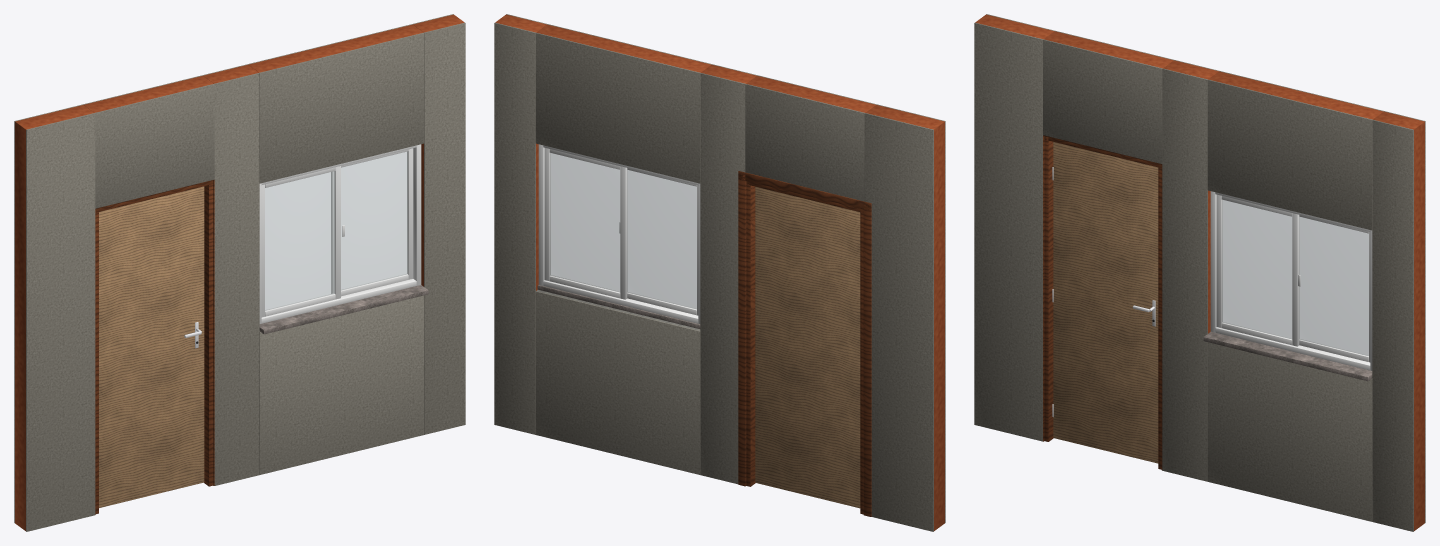
The model's file is KIT-ESQ-01.glb.
The picture shows the model from 3 angles, left to right: view 1: azimuth 30°, elevation 25°; view 2: azimuth 150°, elevation 25°; view 3: azimuth 330°, elevation 25°; orthographic projection.
Visible parts, largest first — view 1: KIT-ESQ-01_p0, KIT-ESQ-01_reb_f_esq, KIT-ESQ-01_reb_f_sob_janela, KIT-ESQ-01_p1, KIT-ESQ-01_reb_f_meio, KIT-ESQ-01_reb_f_sobre_janela, KIT-ESQ-01_reb_f_dir, KIT-ESQ-01_reb_f_sobre_porta, KIT-ESQ-01_alv_esq, KIT-ESQ-01_p2, KIT-ESQ-01_alv_sobre_janela, KIT-ESQ-01_alv_sobre_porta (+2 smaller); view 2: KIT-ESQ-01_p0, KIT-ESQ-01_reb_t_esq, KIT-ESQ-01_reb_t_sob_janela, KIT-ESQ-01_p1, KIT-ESQ-01_reb_t_sobre_janela, KIT-ESQ-01_reb_t_dir, KIT-ESQ-01_reb_t_meio, KIT-ESQ-01_reb_t_sobre_porta, KIT-ESQ-01_alv_esq, KIT-ESQ-01_alv_sobre_janela, KIT-ESQ-01_alv_sobre_porta, KIT-ESQ-01_p2 (+1 smaller); view 3: KIT-ESQ-01_p0, KIT-ESQ-01_reb_f_esq, KIT-ESQ-01_reb_f_sob_janela, KIT-ESQ-01_p1, KIT-ESQ-01_reb_f_sobre_janela, KIT-ESQ-01_reb_f_meio, KIT-ESQ-01_reb_f_dir, KIT-ESQ-01_reb_f_sobre_porta, KIT-ESQ-01_alv_dir, KIT-ESQ-01_p2, KIT-ESQ-01_alv_sobre_janela, KIT-ESQ-01_alv_sobre_porta (+2 smaller).
Boxes of the visible parts, box(x1,y1,x2,y2) form: KIT-ESQ-01_p0: box(95, 179, 214, 514); KIT-ESQ-01_reb_f_esq: box(26, 113, 95, 531); KIT-ESQ-01_reb_f_sob_janela: box(259, 295, 424, 474); KIT-ESQ-01_p1: box(259, 144, 421, 323); KIT-ESQ-01_reb_f_meio: box(214, 73, 259, 485); KIT-ESQ-01_reb_f_sobre_janela: box(259, 32, 424, 183); KIT-ESQ-01_reb_f_dir: box(424, 22, 465, 434); KIT-ESQ-01_reb_f_sobre_porta: box(95, 84, 214, 208); KIT-ESQ-01_alv_esq: box(15, 105, 93, 530); KIT-ESQ-01_p2: box(259, 285, 428, 334); KIT-ESQ-01_alv_sobre_janela: box(248, 24, 423, 72); KIT-ESQ-01_alv_sobre_porta: box(84, 76, 213, 112); KIT-ESQ-01_p0: box(738, 171, 871, 516); KIT-ESQ-01_reb_t_esq: box(864, 113, 933, 531); KIT-ESQ-01_reb_t_sob_janela: box(535, 291, 700, 474); KIT-ESQ-01_p1: box(538, 144, 700, 323); KIT-ESQ-01_reb_t_sobre_janela: box(535, 32, 700, 183); KIT-ESQ-01_reb_t_dir: box(494, 22, 535, 434); KIT-ESQ-01_reb_t_meio: box(700, 73, 745, 484); KIT-ESQ-01_reb_t_sobre_porta: box(745, 84, 864, 201); KIT-ESQ-01_alv_esq: box(866, 105, 944, 530); KIT-ESQ-01_alv_sobre_janela: box(536, 24, 711, 72); KIT-ESQ-01_alv_sobre_porta: box(746, 76, 875, 112); KIT-ESQ-01_p2: box(537, 285, 700, 328); KIT-ESQ-01_p0: box(1043, 135, 1162, 470); KIT-ESQ-01_reb_f_esq: box(974, 22, 1042, 441); KIT-ESQ-01_reb_f_sob_janela: box(1207, 342, 1372, 521); KIT-ESQ-01_p1: box(1210, 191, 1372, 370); KIT-ESQ-01_reb_f_sobre_janela: box(1207, 79, 1372, 230); KIT-ESQ-01_reb_f_meio: box(1162, 68, 1207, 481); KIT-ESQ-01_reb_f_dir: box(1372, 119, 1413, 531); KIT-ESQ-01_reb_f_sobre_porta: box(1043, 39, 1162, 163); KIT-ESQ-01_alv_dir: box(1373, 111, 1424, 530); KIT-ESQ-01_p2: box(1203, 332, 1372, 381); KIT-ESQ-01_alv_sobre_janela: box(1208, 71, 1383, 119); KIT-ESQ-01_alv_sobre_porta: box(1044, 31, 1173, 68).
Size of the model in its own units: 3.2 by 2.8 by 0.2127.
10 materials, 6 textured.
